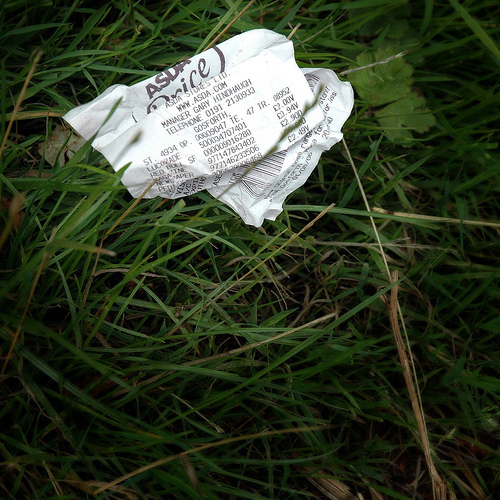litter: (58, 26, 356, 230)
